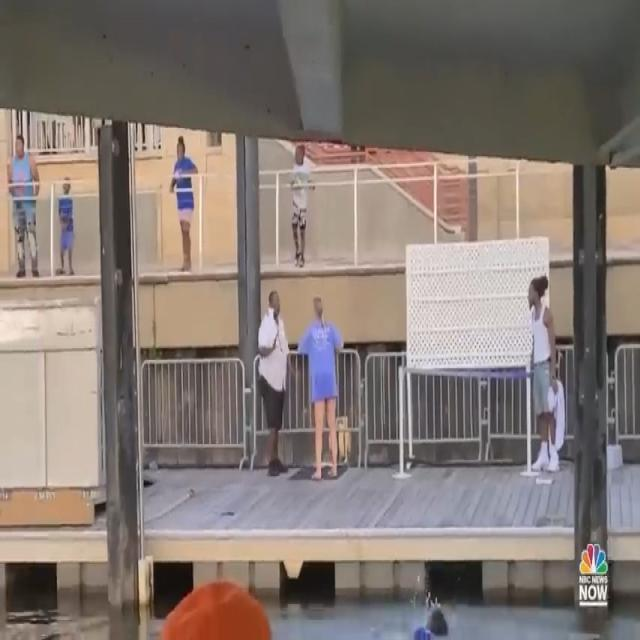non-fight: (238, 277, 362, 493), (515, 272, 577, 486), (1, 129, 44, 303), (159, 135, 205, 280), (278, 141, 320, 270)
